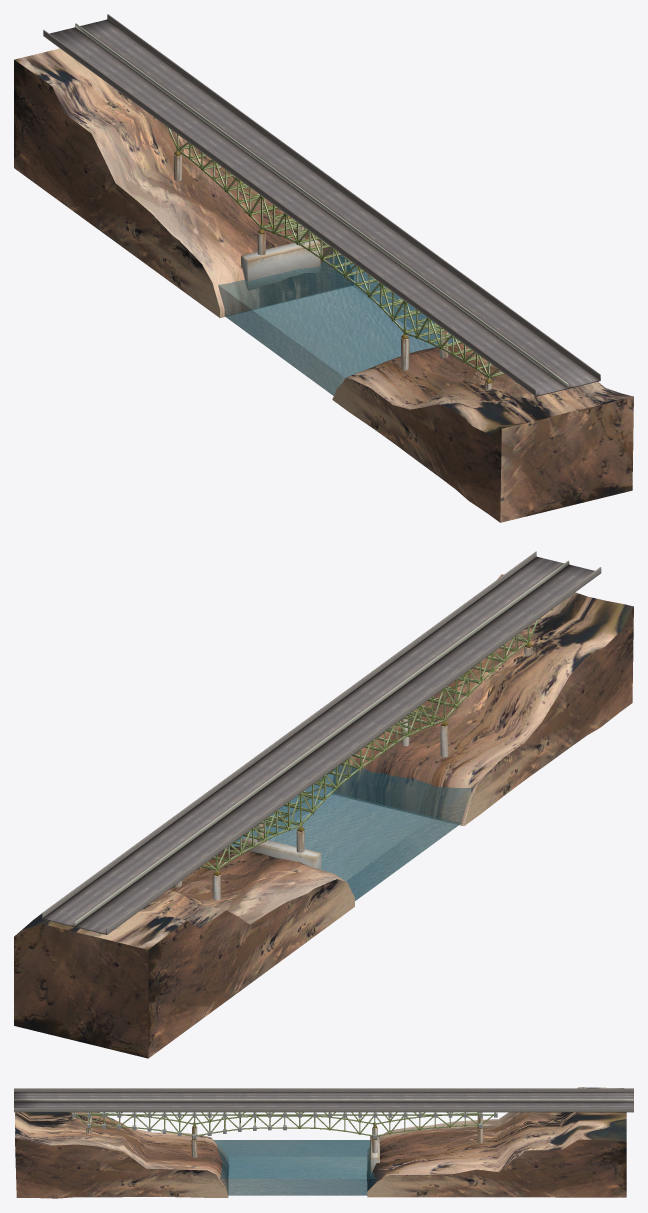
File: bridge.dae
3 views of the same model, one above another, from view 1: azimuth 30°, elevation 25°; view 2: azimuth 150°, elevation 25°; view 3: azimuth 270°, elevation 25° (orthographic). The views are drawn at different scales.
Parts seen in each view (by area): view 1: polySurface2, polySurface3, pCube9, pCube5, pCube8, pCube6, pCube2, pCube7, pCube97; view 2: polySurface2, polySurface3, pCube9, pCube5, pCube8, pCube6, pCube2, pCube7, pCube97; view 3: polySurface2, polySurface3, pCube9, pCube8, pCube5, pCube2, pCube6, pCube7, pCube97.
Part boxes in pixels (left/top/right/bottom): polySurface2: left=14, top=48, right=353, bottom=317; polySurface3: left=332, top=342, right=633, bottom=522; pCube9: left=218, top=255, right=457, bottom=395; pCube5: left=80, top=19, right=599, bottom=388; pCube8: left=49, top=27, right=567, bottom=396; pCube6: left=43, top=30, right=536, bottom=396; pCube2: left=107, top=14, right=600, bottom=380; pCube7: left=75, top=23, right=568, bottom=387; pCube97: left=241, top=240, right=320, bottom=290; polySurface2: left=14, top=846, right=354, bottom=1058; polySurface3: left=332, top=574, right=633, bottom=826; pCube9: left=230, top=763, right=472, bottom=900; pCube5: left=42, top=556, right=563, bottom=926; pCube8: left=75, top=564, right=594, bottom=934; pCube6: left=106, top=567, right=601, bottom=934; pCube2: left=42, top=551, right=536, bottom=918; pCube7: left=74, top=560, right=569, bottom=925; pCube97: left=241, top=837, right=321, bottom=869; polySurface2: left=366, top=1087, right=626, bottom=1197; polySurface3: left=15, top=1112, right=229, bottom=1198; pCube9: left=214, top=1140, right=376, bottom=1195; pCube8: left=14, top=1092, right=633, bottom=1099; pCube5: left=14, top=1101, right=633, bottom=1107; pCube2: left=14, top=1108, right=633, bottom=1112; pCube6: left=14, top=1088, right=633, bottom=1091; pCube7: left=14, top=1099, right=633, bottom=1101; pCube97: left=370, top=1136, right=379, bottom=1175.
Bounding box in the file's own units: 13.03 × 11.71 × 82.34.
